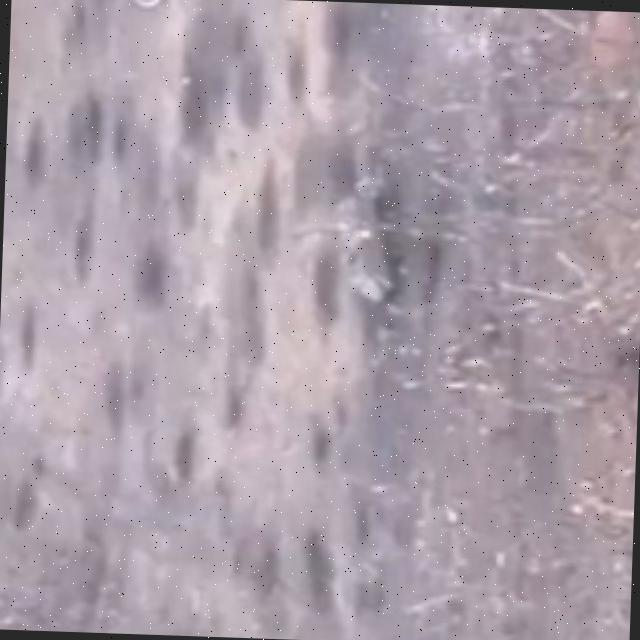APC: (331, 190, 409, 304)
